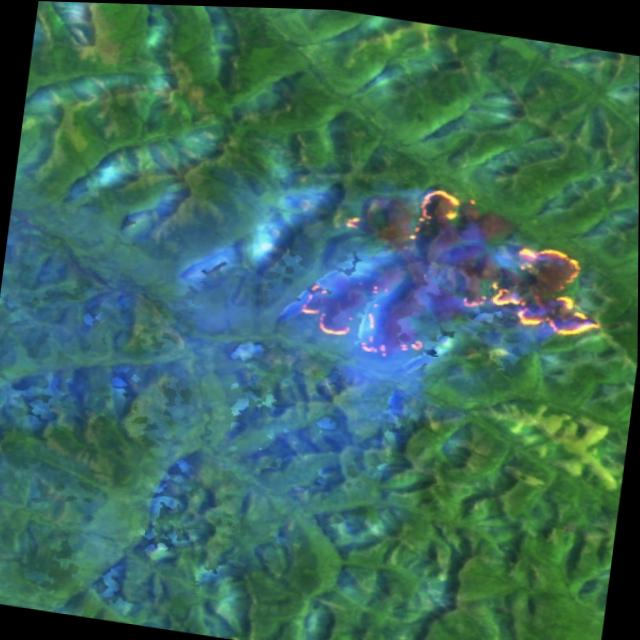fire: (289, 160, 621, 389)
